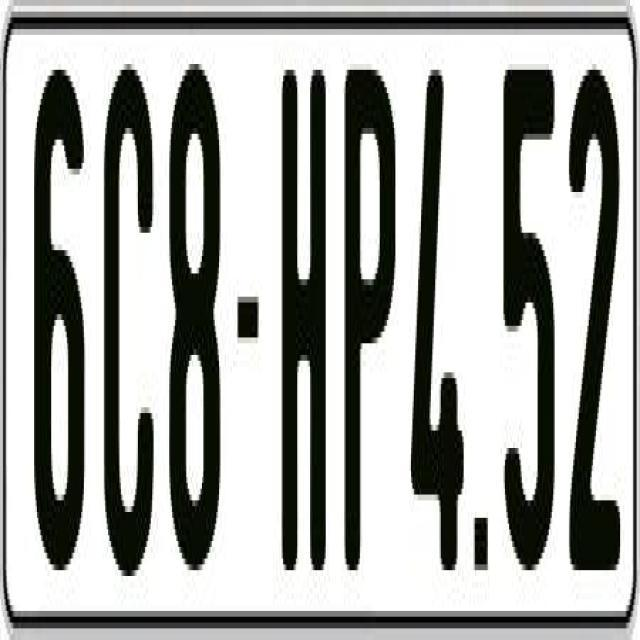2: (566, 52, 614, 588)
4: (408, 52, 467, 570)
5: (502, 64, 553, 576)
6: (32, 52, 92, 576)
8: (165, 52, 225, 576)
C: (100, 70, 150, 594)
H: (282, 52, 332, 570)
P: (346, 70, 402, 582)
